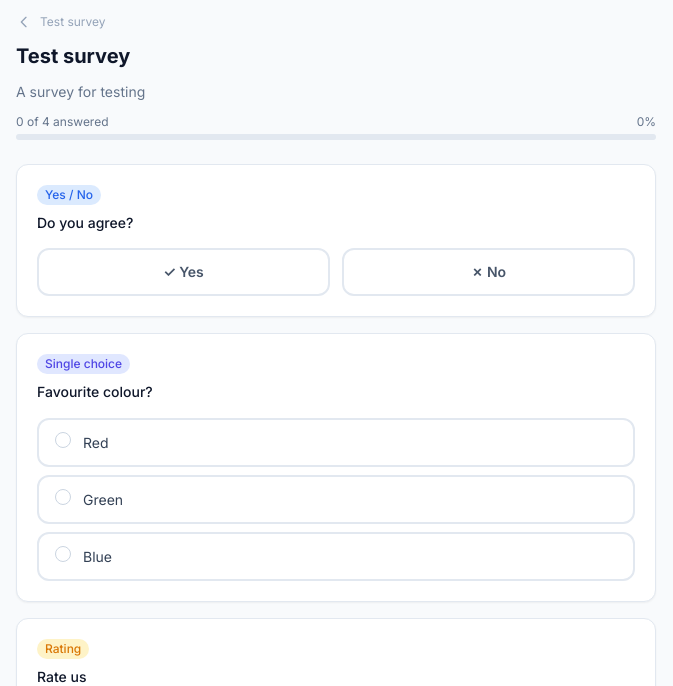
FillPage — progress bar › increments after answering a question
This screenshot has width=673, height=686.
Expected: the text "Do you agree?" is shown, [37,214,133,231]
Step 1. Click the button "✓ Yes" → (184, 272), box [37,248,330,296]
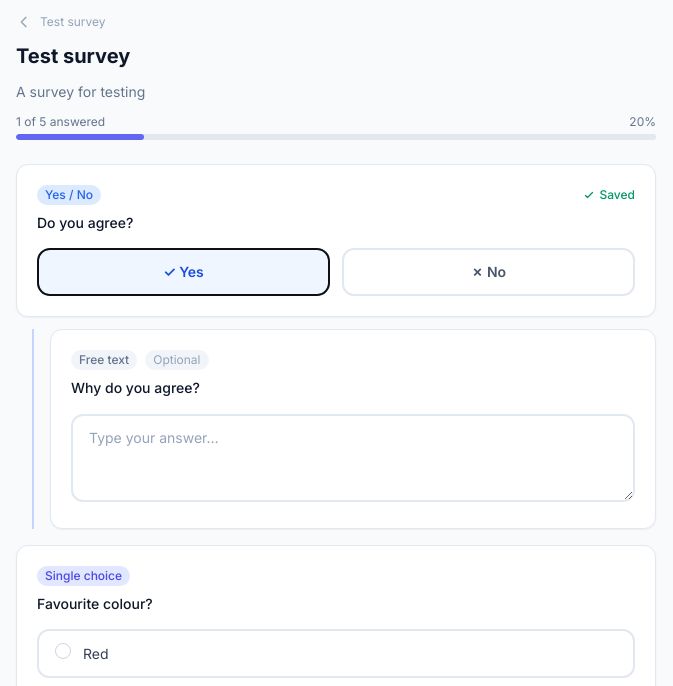
Now the text "1 of 5 answered" is shown, box [16,114,105,130]
